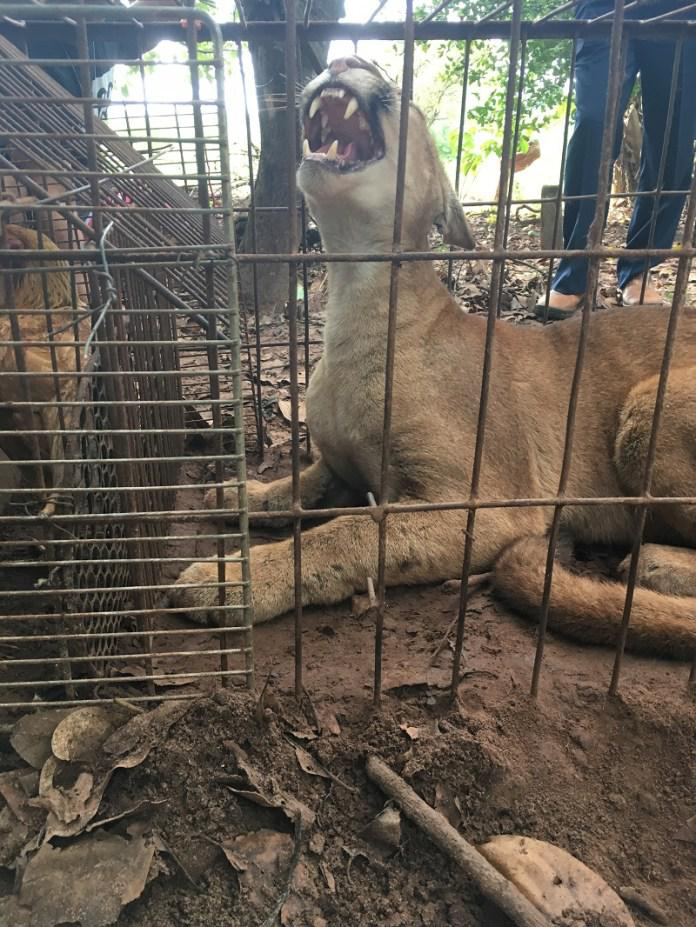OncaParda: (179, 56, 693, 660)
